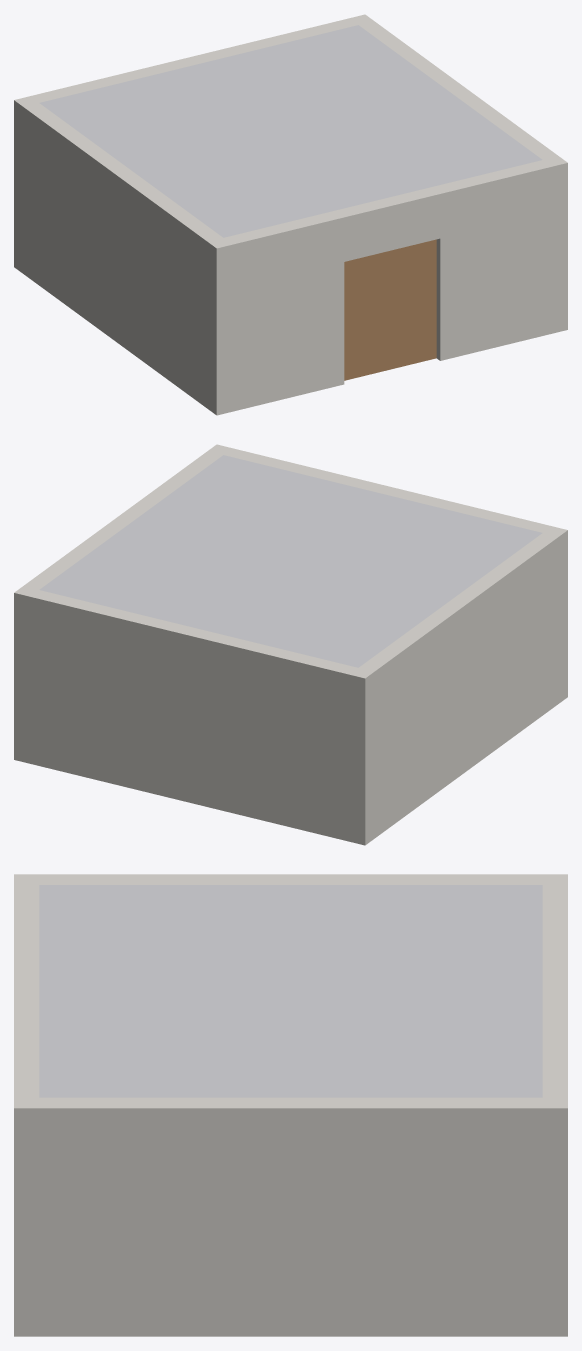
Rendered from DefaultBuilding.fbx.
3 renders of one model, top to bottom at view 1: azimuth 30°, elevation 25°; view 2: azimuth 150°, elevation 25°; view 3: azimuth 270°, elevation 25°, orthographic. The views are drawn at different scales.
Visible parts, largest first — view 1: RoomCeiling, Wall_Left, Wall_Front_Left, Wall_Front_Right, DoorLeaf_Right, DoorLeaf_Left, Wall_Front_Lintel, Wall_Back, Wall_Right; view 2: Wall_Back, RoomCeiling, Wall_Left, Wall_Right, Wall_Front_Left, Wall_Front_Right, Wall_Front_Lintel; view 3: Wall_Right, RoomCeiling, Wall_Back, Wall_Front_Right, Wall_Left, Wall_Front_Left, Wall_Front_Lintel.
Part boxes in pixels (x1=…): RoomCeiling: x1=39, y1=25, x2=542, y2=237; Wall_Left: x1=14, y1=98, x2=232, y2=415; Wall_Front_Left: x1=207, y1=210, x2=344, y2=415; Wall_Front_Right: x1=431, y1=156, x2=567, y2=360; DoorLeaf_Right: x1=388, y1=239, x2=436, y2=369; DoorLeaf_Left: x1=344, y1=251, x2=388, y2=380; Wall_Front_Lintel: x1=335, y1=187, x2=440, y2=261; Wall_Back: x1=14, y1=14, x2=373, y2=273; Wall_Right: x1=353, y1=14, x2=567, y2=329; Wall_Back: x1=14, y1=586, x2=374, y2=845; RoomCeiling: x1=39, y1=455, x2=542, y2=667; Wall_Left: x1=349, y1=526, x2=562, y2=844; Wall_Right: x1=14, y1=444, x2=229, y2=763; Wall_Front_Left: x1=431, y1=499, x2=567, y2=703; Wall_Front_Right: x1=208, y1=444, x2=343, y2=481; Wall_Front_Lintel: x1=335, y1=475, x2=439, y2=505; Wall_Right: x1=14, y1=1097, x2=567, y2=1336; RoomCeiling: x1=39, y1=885, x2=542, y2=1097; Wall_Back: x1=542, y1=874, x2=567, y2=1336; Wall_Front_Right: x1=14, y1=1023, x2=39, y2=1336; Wall_Left: x1=14, y1=874, x2=567, y2=884; Wall_Front_Left: x1=14, y1=874, x2=39, y2=959; Wall_Front_Lintel: x1=14, y1=959, x2=39, y2=1023.
Size of the model in its own units: 6.6 by 6.6 by 3.
